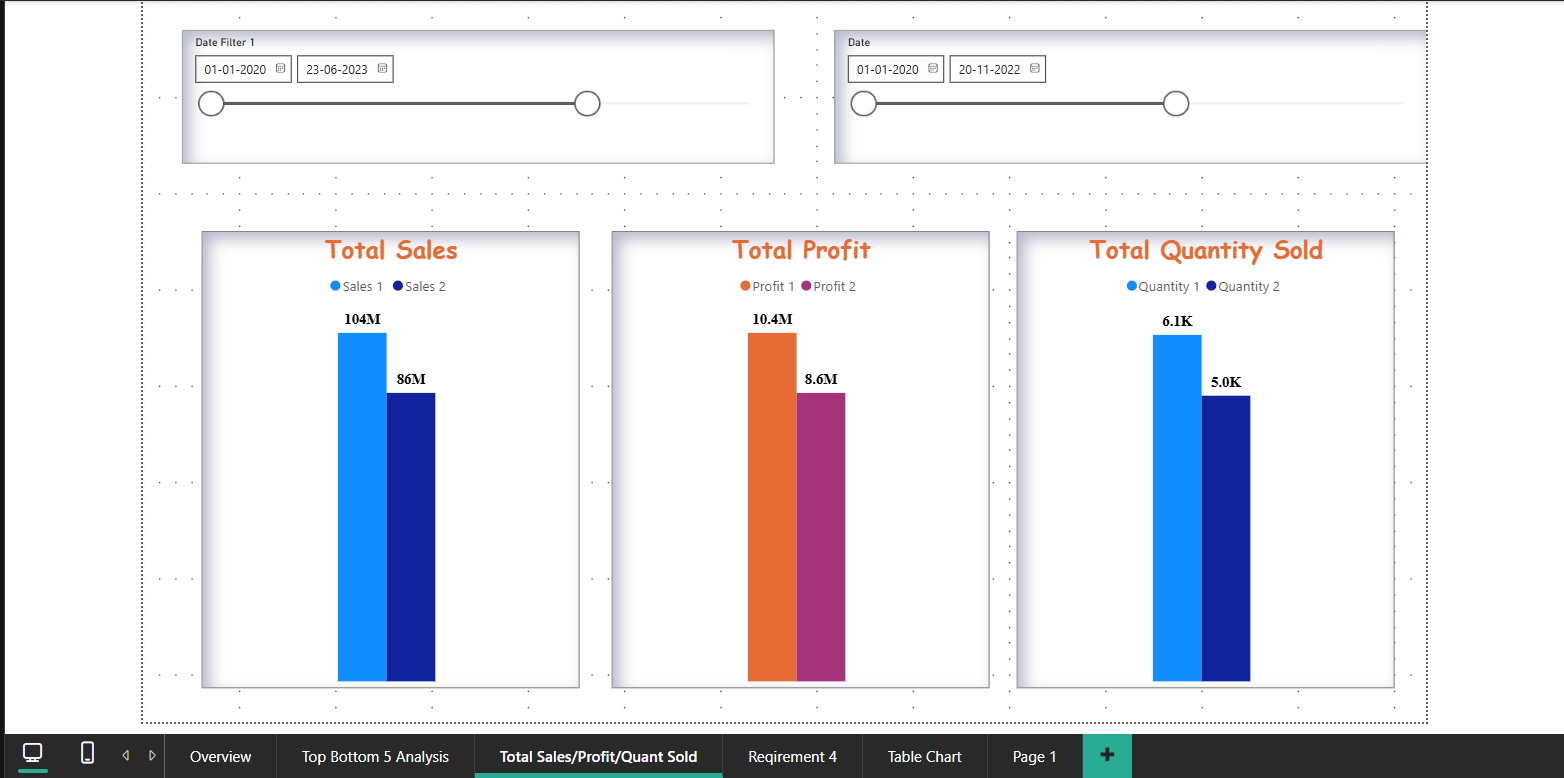

Layout of this report page (visuals, bound fields, positions):
{"tool":"powerbi","page":{"name":"Total Sales/Profit/Quant Sold","canvas":[1280,720],"ordinal":2},"visuals":[{"type":"slicer","fields":{"Values":["Data Table 1.Date"]},"box":[38.6,28.7,591,133.4],"z":0},{"type":"slicer","fields":{"Values":["Data Table 2.Date"]},"box":[689.5,28.7,591,133.4],"z":1000},{"type":"clusteredColumnChart","title":"Total Sales","fields":{"Y":["Sum(Fact Table.Net Sales   )","Data Table 1.Sum of Net Sales"]},"box":[58.6,229.4,376.5,456.3],"z":2000},{"type":"clusteredColumnChart","title":"Total Profit","fields":{"Y":["Sum(Fact Table.Profit)","Measures Table.Total Profit"]},"box":[467.5,229.4,376.5,456.3],"z":3000},{"type":"clusteredColumnChart","title":"Total Quantity Sold ","fields":{"Y":["Sum(Fact Table.Units Sold)","Measures Table.Total Quantity Sold"]},"box":[871.5,229.4,376.5,456.3],"z":4000}]}

Visuals, with their boxes on the page's 1280x720 design canvas (x1, y1, x2, y2). These are canvas units, not pixel positions in the 1564x778 screenshot, which may show the page scaled, cropped or inside an application window:
slicer - Data Table 1.Date: crop(39, 29, 630, 162)
slicer - Data Table 2.Date: crop(690, 29, 1280, 162)
"Total Sales" clusteredColumnChart: crop(59, 229, 435, 686)
"Total Profit" clusteredColumnChart: crop(468, 229, 844, 686)
"Total Quantity Sold " clusteredColumnChart: crop(872, 229, 1248, 686)
